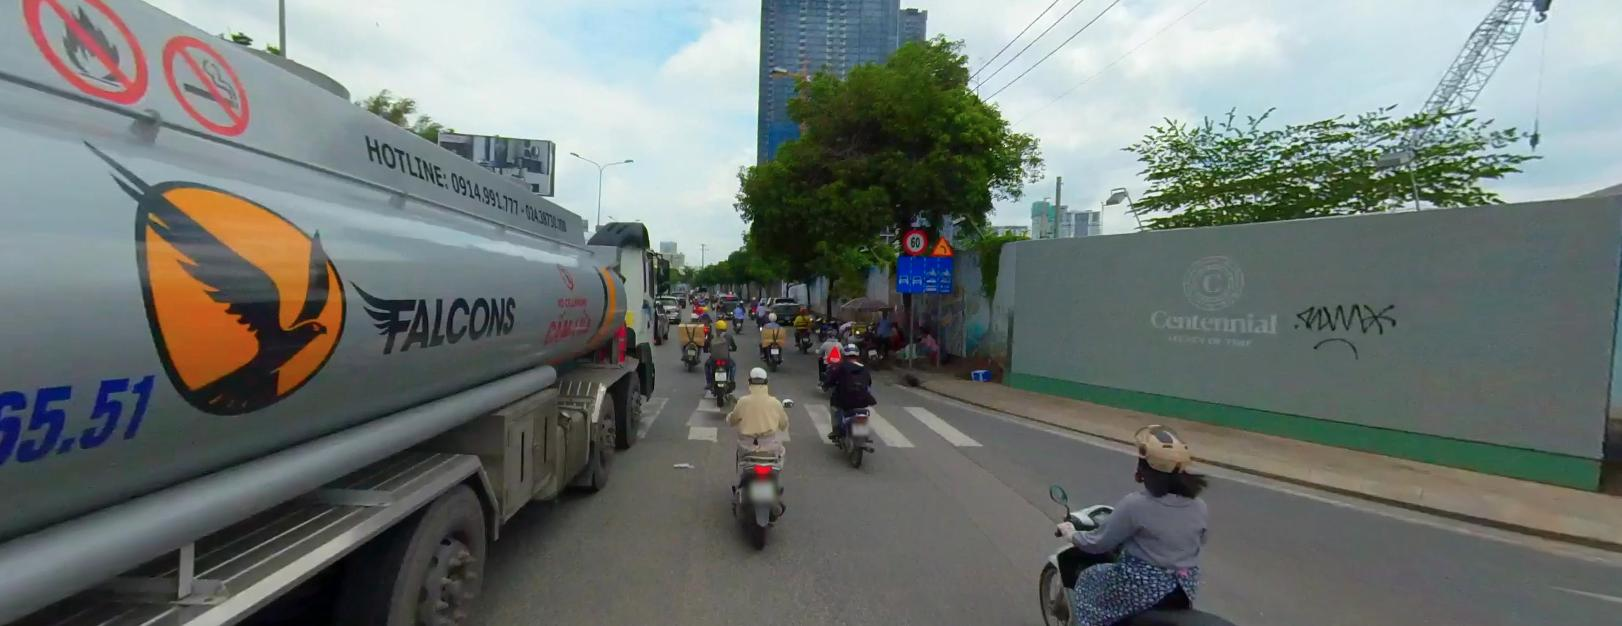Gioi han toc do: (902, 228, 926, 254)
Nguy hiem: (930, 234, 955, 255)
